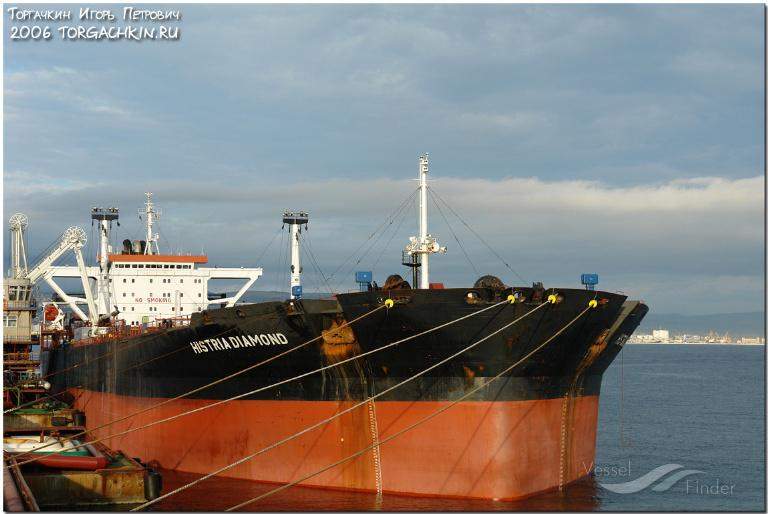OCR: (181, 328, 297, 366)
